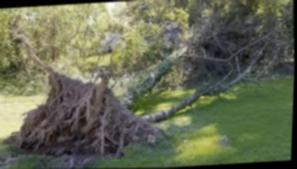Downstairs: (9, 20, 248, 149)
